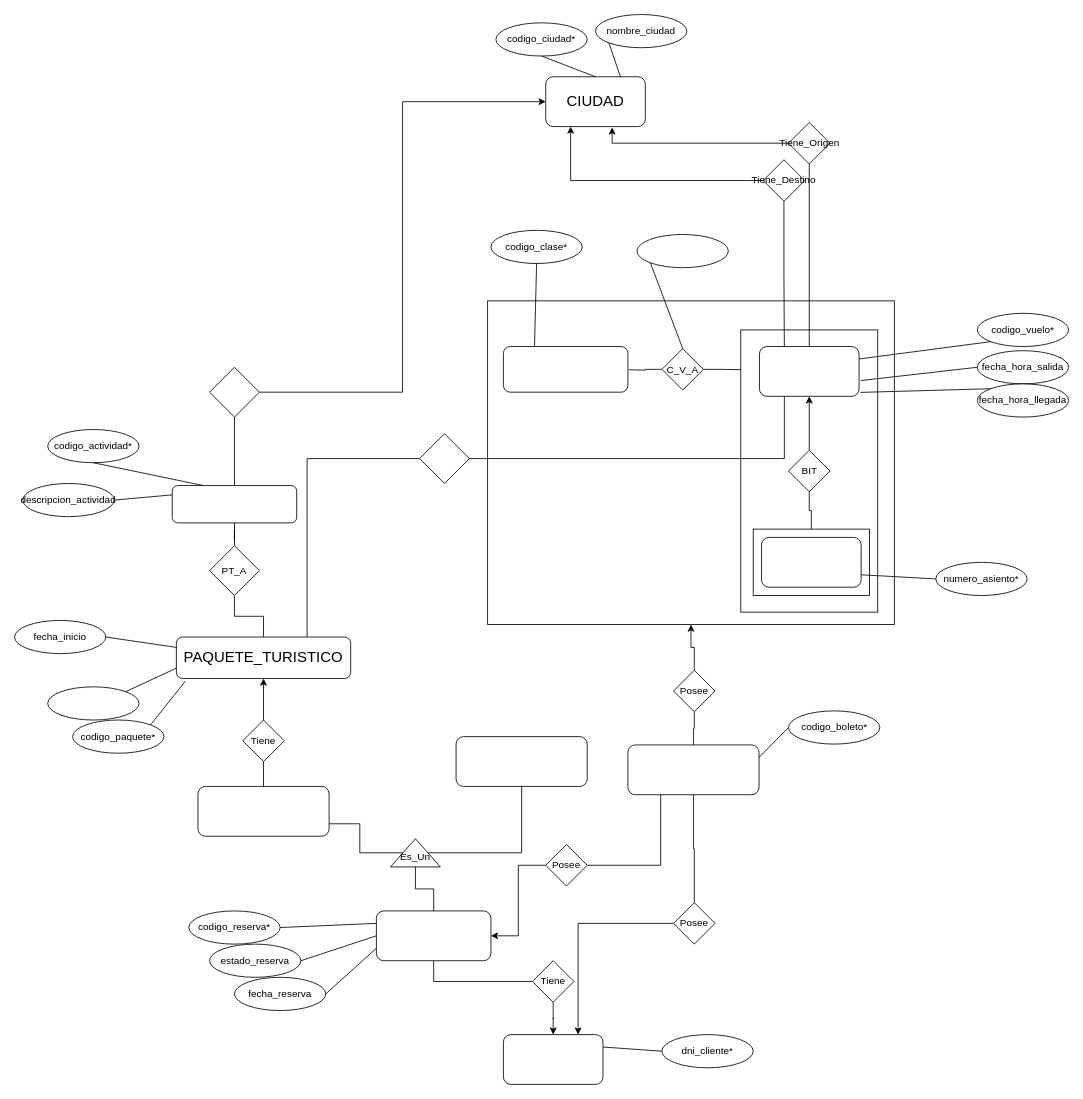
This 1083x1099 diagram has some shape labels left out. The centre of each missing label's shape, as x and y in pixels:
"ACTIVIDAD" belongs at (x=234, y=504).
"ASIENTO" belongs at (x=811, y=562).
"BOLETO" belongs at (x=693, y=769).
"CLASE" belongs at (x=565, y=369).
"CLIENTE" belongs at (x=553, y=1059).
"fecha_fin" belongs at (x=93, y=703).
"precio" belongs at (x=682, y=251).
"PT_V" belongs at (x=444, y=458).
"RESERVA" belongs at (x=433, y=935).
"RESERVA_PAQUETE" belongs at (x=263, y=811).
"RESERVA_VUELO" belongs at (x=521, y=761).
"Tiene_actividad" belongs at (x=234, y=391).
"VUELO" belongs at (x=809, y=371).
